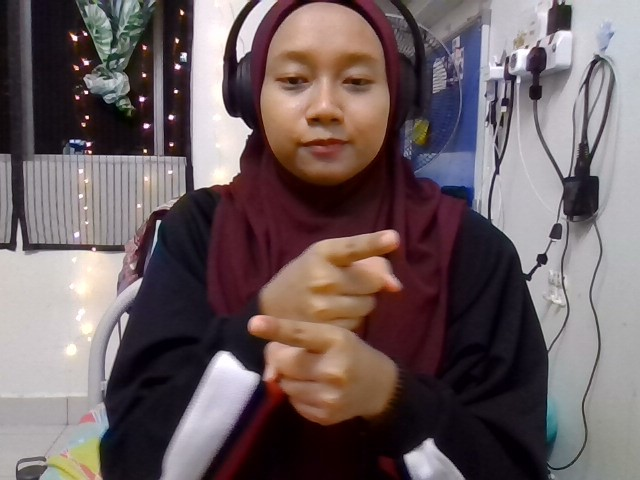Betul: (248, 230, 402, 425)
